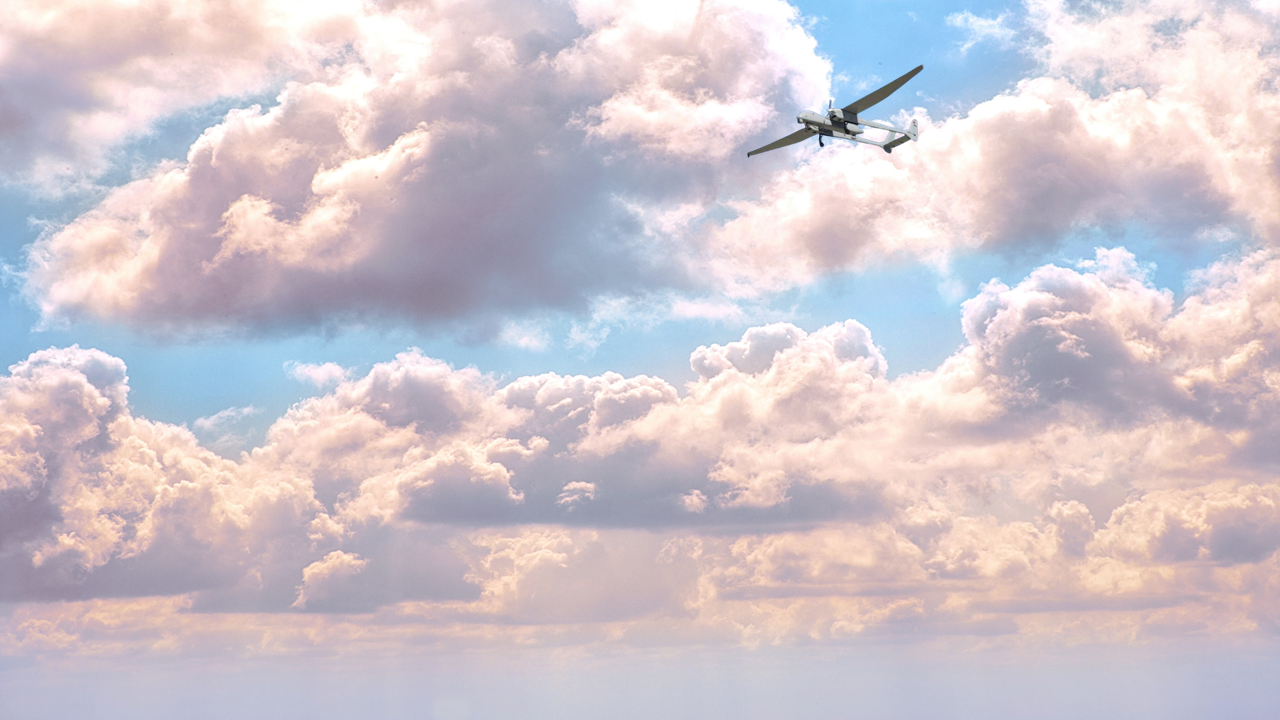military drone: (746, 64, 923, 157)
